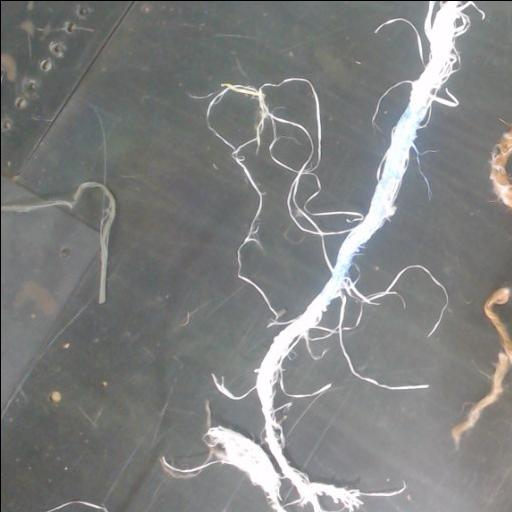conveyor belt: (1, 1, 427, 512), (280, 1, 512, 512), (240, 119, 330, 318)
jute: (451, 287, 512, 446), (490, 128, 512, 209)
thread: (159, 1, 484, 512), (1, 179, 115, 303), (37, 499, 110, 512)
